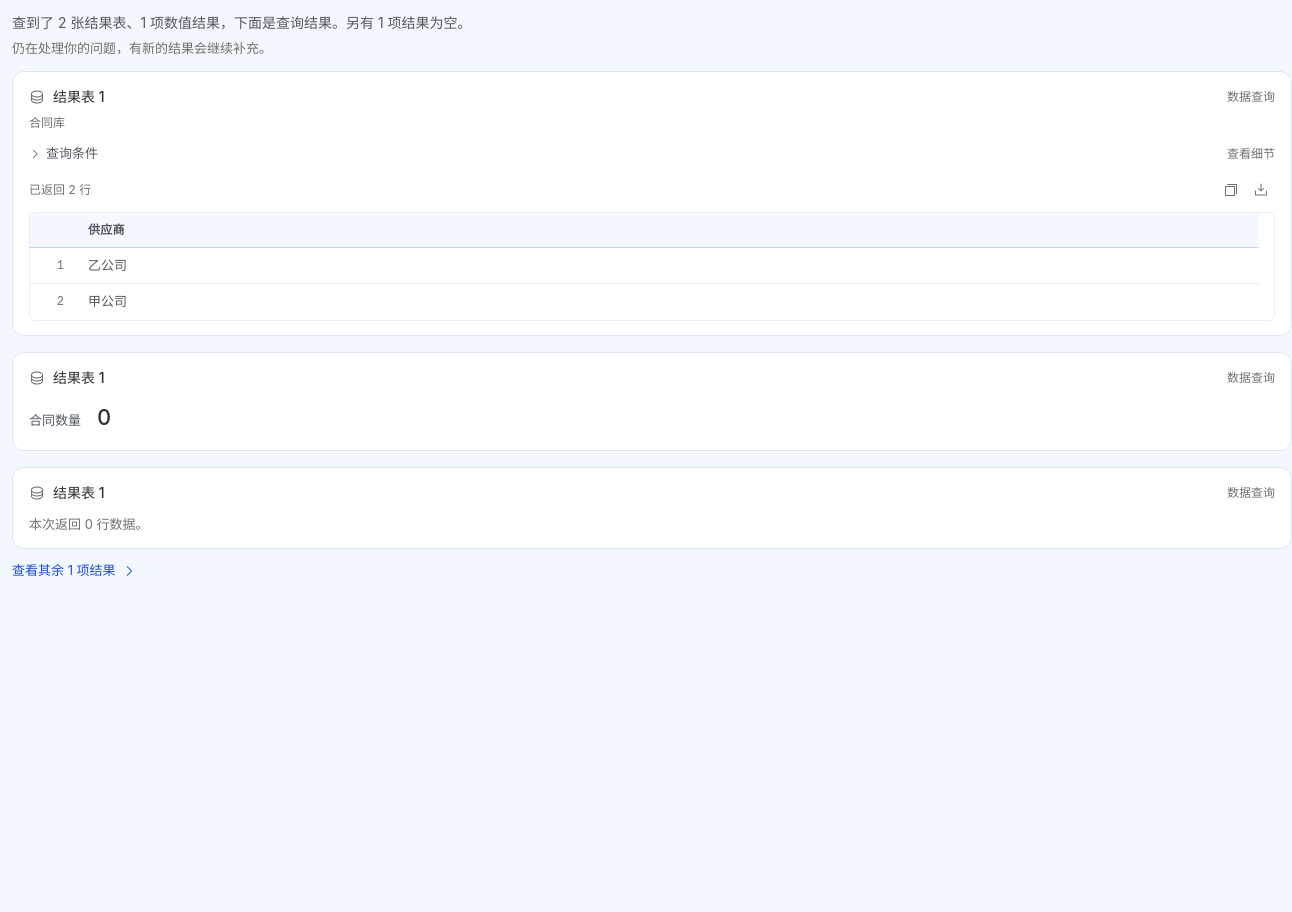
it: compact query results › shows three real results in source order and reveals the rest on request
Expected: the message shows "查到了 2 张结果表、1 项数值结果，下面是查询结果。", [12, 14, 472, 31]
Expected: the message shows "另有 1 项结果为空。", [12, 14, 472, 31]
Click the button "查看其余 1 项结果". click: (74, 571)
box: [12, 557, 136, 585]
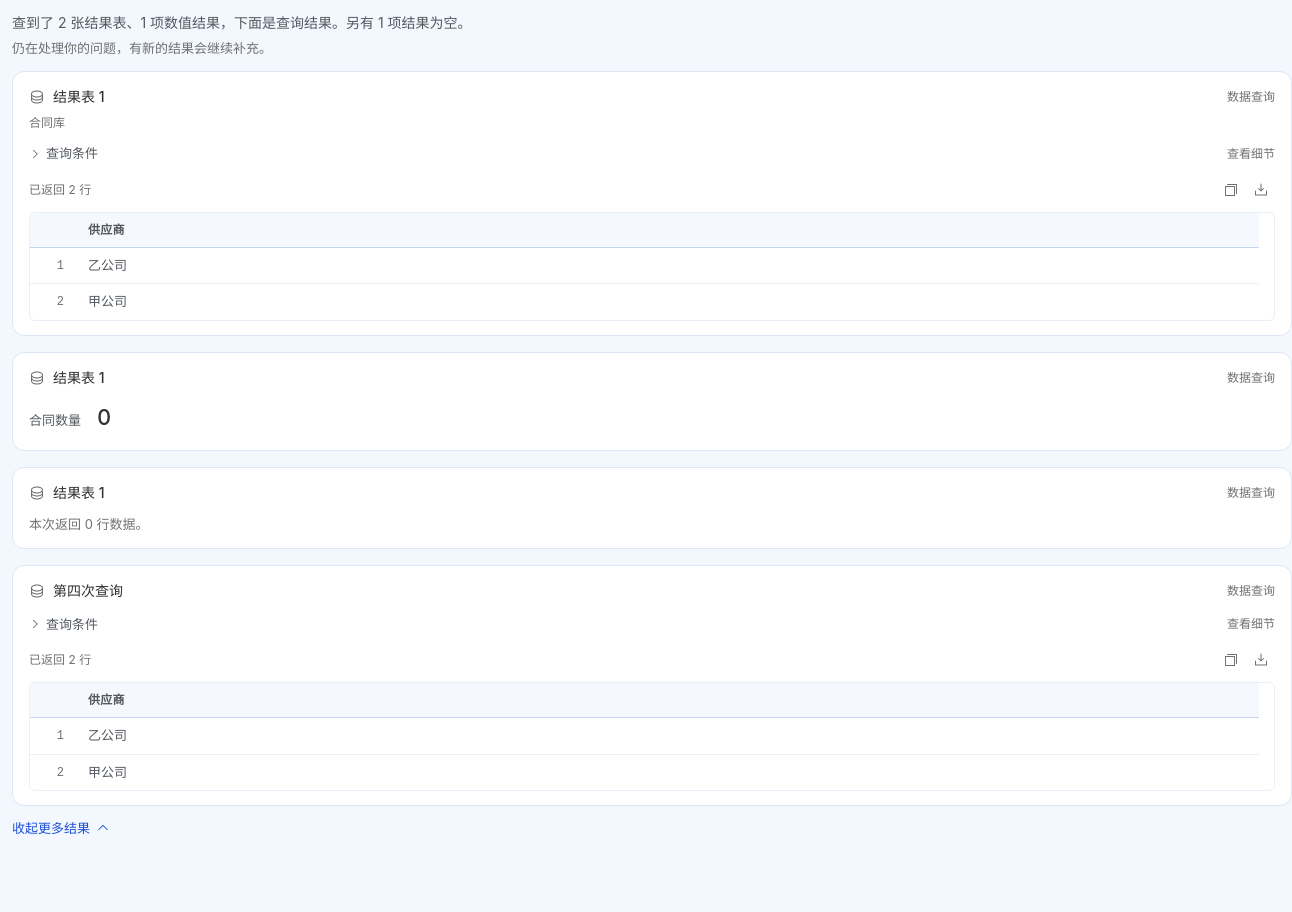
Expected: the heading "第四次查询" is shown, [53, 582, 123, 599]
